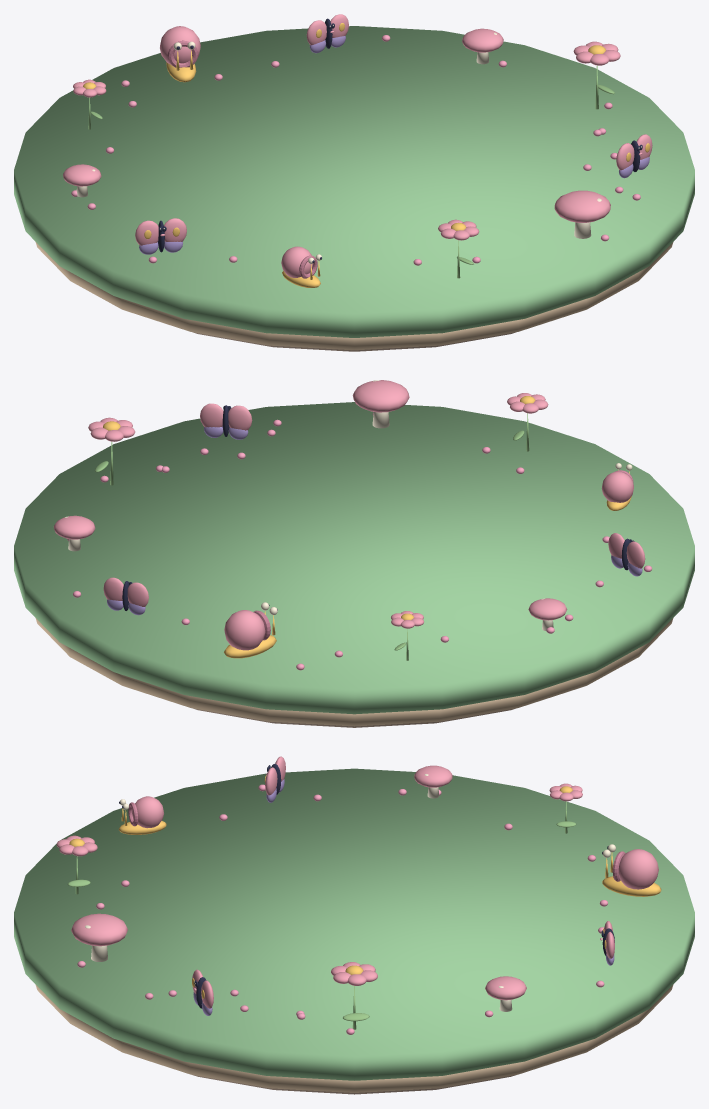
Rendered from world.glb.
The picture shows the model from 3 angles, top to bottom: view 1: azimuth 30°, elevation 25°; view 2: azimuth 150°, elevation 25°; view 3: azimuth 270°, elevation 25°; orthographic projection.
Parts seen in each view (by area): view 1: Cone, Cone.001, snail.001, mushroom.003, butterfly.002, snail.002, butterfly.001, butterfly.003, flower.001, mushroom.001, flower.003, mushroom.002 (+2 smaller); view 2: Cone, Cone.001, snail.001, mushroom.003, butterfly.003, butterfly.001, butterfly.002, snail.002, flower.001, mushroom.001, flower.003, mushroom.002 (+2 smaller); view 3: Cone, Cone.001, snail.001, mushroom.003, snail.002, flower.001, mushroom.001, flower.003, mushroom.002, butterfly.003, butterfly.002, flower.002 (+1 smaller).
Part boxes in pixels (x1,y1,x2,y2): Cone: (14,26,694,337); Cone.001: (35,242,673,350); snail.001: (160,26,200,82); mushroom.003: (554,190,610,238); butterfly.002: (135,218,186,254); snail.002: (281,246,321,287); butterfly.001: (306,14,348,53); butterfly.003: (616,134,652,178); flower.001: (573,41,620,109); mushroom.001: (462,28,503,64); flower.003: (438,219,479,278); mushroom.002: (63,164,101,197); Cone: (14,402,694,714); Cone.001: (35,618,673,726); snail.001: (224,602,277,658); mushroom.003: (352,380,409,428); butterfly.003: (200,403,252,439); butterfly.001: (103,577,148,615); butterfly.002: (608,533,645,576); snail.002: (601,463,633,510); flower.001: (88,417,135,485); mushroom.001: (53,515,95,551); flower.003: (507,393,548,451); mushroom.002: (528,598,567,631); Cone: (14,768,694,1080); Cone.001: (35,984,673,1092); snail.001: (602,844,661,896); mushroom.003: (71,913,127,961); snail.002: (118,796,166,834); flower.001: (331,962,377,1029); mushroom.001: (485,976,526,1011); flower.003: (56,835,97,894); mushroom.002: (414,765,452,798); butterfly.003: (192,969,213,1015); butterfly.002: (264,756,285,802); flower.002: (549,783,582,833).
Bounding box in the file's own units: 9.6 × 1.77 × 9.6.
